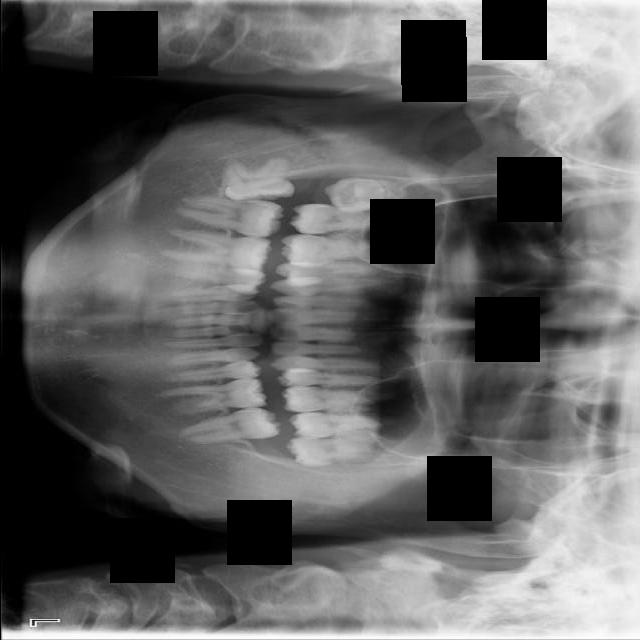3M ESPE Implant: (323, 174, 405, 214)
73: (26, 598, 42, 607)
BioHorizons Implant: (287, 405, 397, 441)
BioLife Implant: (284, 435, 395, 468)
Blue Sky Bio Implant: (175, 406, 282, 444)
Caries: (287, 198, 407, 236)
Implant: (173, 195, 284, 239)
Keystone Dental Implant: (223, 159, 295, 203)
